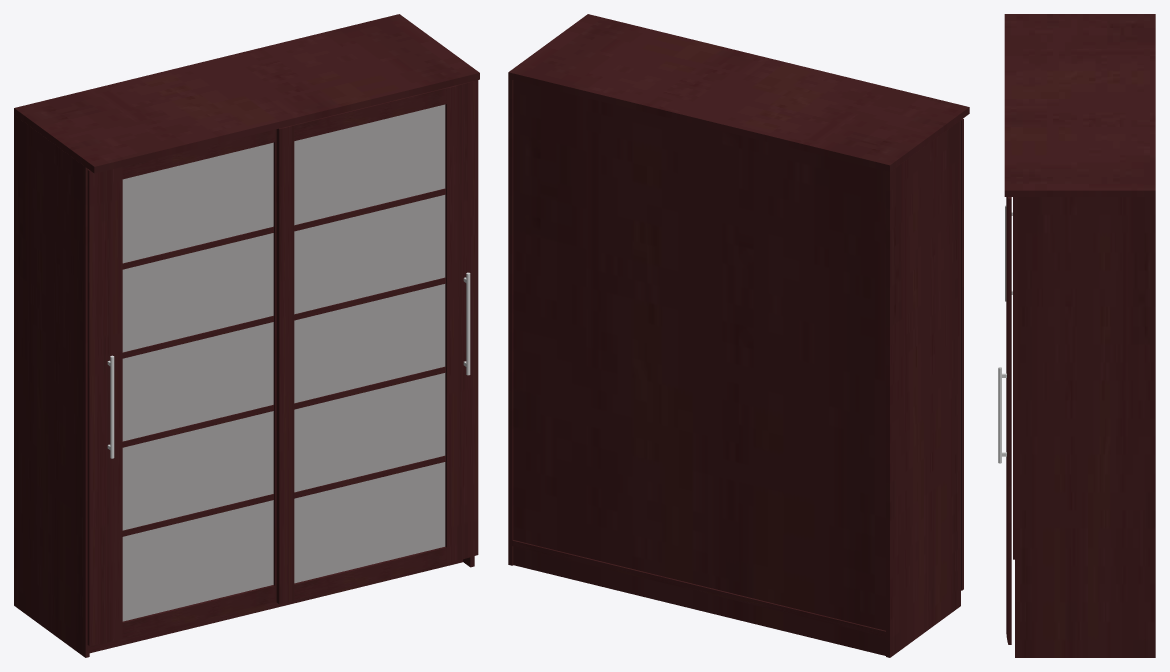
The model's file is armoireLotus.obj.
3 views of the same model, side by side, from view 1: azimuth 30°, elevation 25°; view 2: azimuth 150°, elevation 25°; view 3: azimuth 270°, elevation 25° (orthographic). The views are drawn at different scales.
Parts seen in each view (by area): view 1: Cube_8_8, Cube_8_1_19, Cube_10_1_26, Cube_12_29, Boolean_1_1_20, Boolean_1_12, Cube_3_1, Cube_6_2, Cube_6_2_13, Cube_6_1_3, Cube_6_3_14, Cube_11_1_28 (+9 smaller); view 2: Cube_13_31, Cube_10_1_26, Cube_12_29, Cube_10_25, Cube_12_1_30, Boolean_1_1_20; view 3: Cube_10_25, Cube_12_29, Boolean_1_12, Cube_3_1_21, Cylinder_1_9.
Part boxes in pixels (x1,y1,x2,y2): Cube_8_8: [294, 104, 445, 583]; Cube_8_1_19: [122, 142, 273, 621]; Cube_10_1_26: [14, 115, 89, 657]; Cube_12_29: [14, 14, 479, 173]; Boolean_1_1_20: [87, 167, 122, 645]; Boolean_1_12: [445, 80, 478, 563]; Cube_3_1: [276, 125, 294, 604]; Cube_6_2: [294, 546, 446, 600]; Cube_6_2_13: [122, 585, 274, 638]; Cube_6_1_3: [294, 88, 446, 140]; Cube_6_3_14: [122, 129, 274, 179]; Cube_11_1_28: [89, 559, 462, 653]; Cube_13_31: [513, 80, 885, 655]; Cube_10_1_26: [886, 120, 960, 657]; Cube_12_29: [508, 14, 969, 171]; Cube_10_25: [508, 79, 513, 565]; Cube_12_1_30: [512, 540, 885, 636]; Boolean_1_1_20: [961, 119, 963, 590]; Cube_10_25: [1015, 197, 1155, 657]; Cube_12_29: [1004, 14, 1155, 196]; Boolean_1_12: [1006, 197, 1011, 644]; Cube_3_1_21: [1013, 197, 1014, 559]; Cylinder_1_9: [998, 367, 1001, 463].
Size of the model in its own units: 179 by 221 by 67.54.
Materials: 3 (2 with a texture image).
